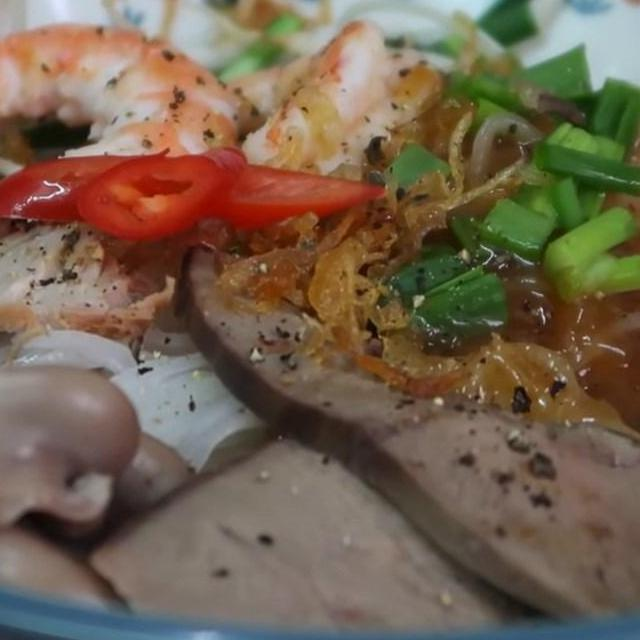banh hu tieu: (0, 314, 283, 475)
gan: (170, 229, 640, 632), (69, 421, 604, 638)
hu tieu: (0, 26, 640, 640)
thit heo: (0, 198, 196, 350)
tom: (0, 7, 268, 251), (136, 12, 453, 199)
